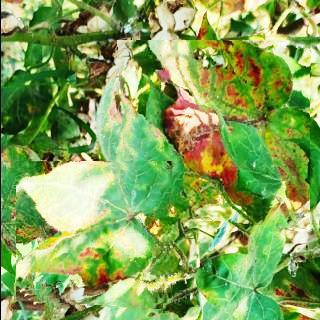blight: (115, 40, 309, 231), (15, 161, 172, 309)
